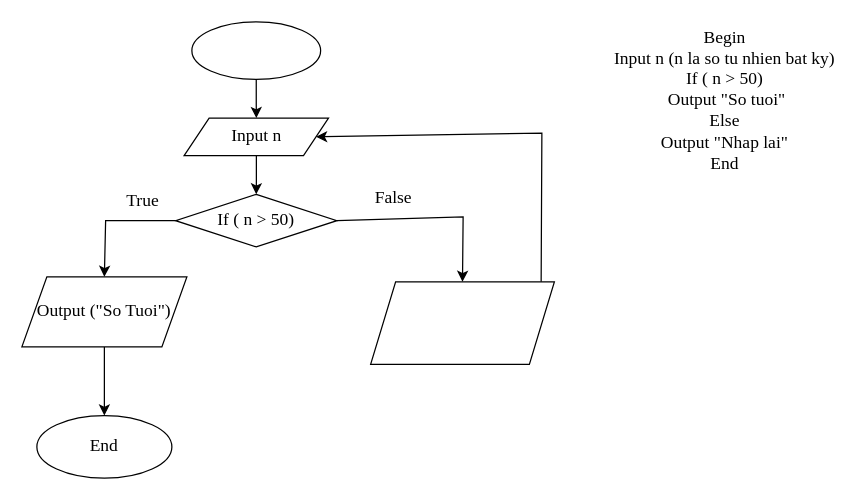
Some shapes in this 866 by 500 pixel diagram are drawn without their labels. Each missing label, with the centre of its shape:
Begin: (256,50)
Output ("Nhap Lai" ): (461,322)
